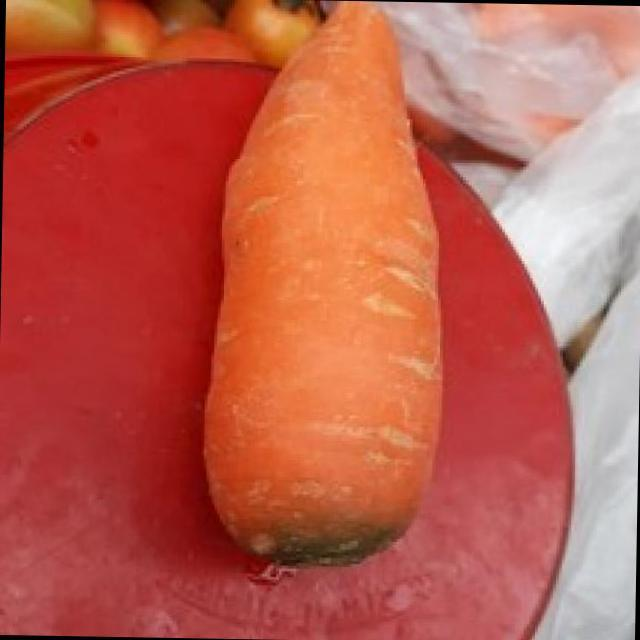Carrot: (205, 6, 440, 561)
